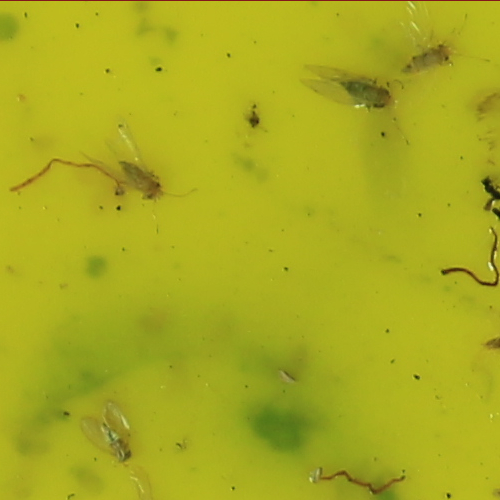Glycaspis: (117, 158, 166, 203), (401, 39, 459, 71), (340, 78, 396, 110)
